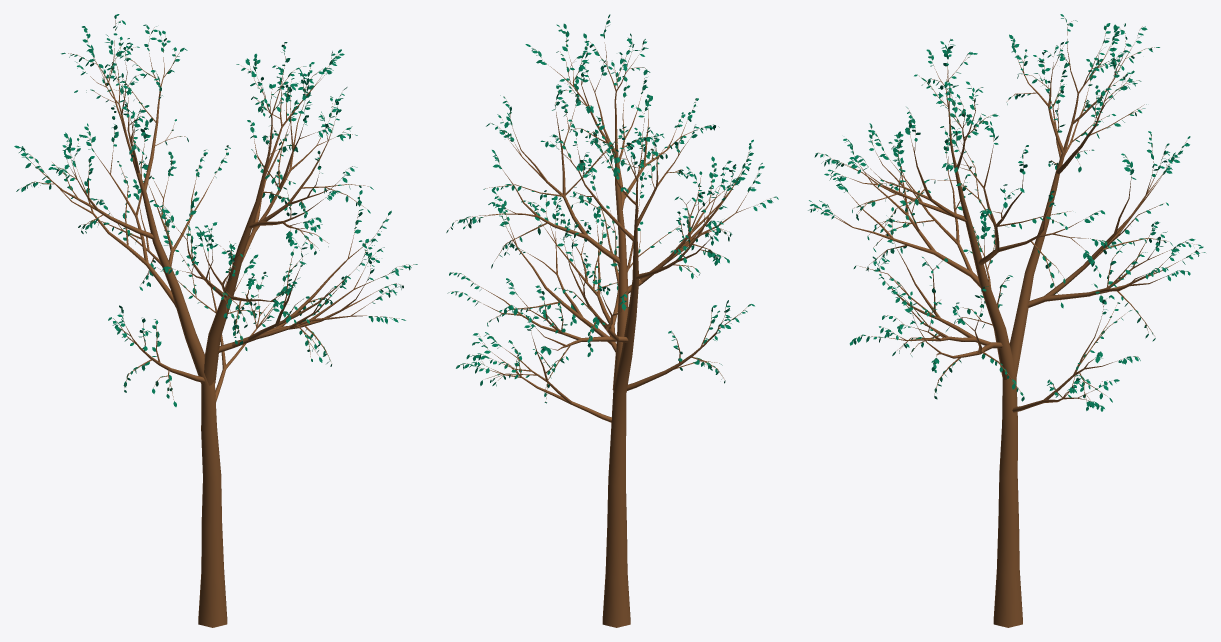
File: tree2.glb
The picture shows the model from 3 angles, left to right: view 1: azimuth 30°, elevation 25°; view 2: azimuth 150°, elevation 25°; view 3: azimuth 270°, elevation 25°; orthographic projection. The views are drawn at different scales.
Visible parts, largest first — view 1: tree, leaves; view 2: tree, leaves; view 3: tree, leaves.
Part boxes in pixels (bbox=[...]): tree: bbox=[20, 20, 413, 627]; leaves: bbox=[14, 14, 417, 406]; tree: bbox=[449, 21, 771, 627]; leaves: bbox=[446, 14, 778, 403]; tree: bbox=[812, 18, 1196, 627]; leaves: bbox=[808, 14, 1205, 411].
Size of the model in its own units: 10.09 by 18.38 by 11.11.
